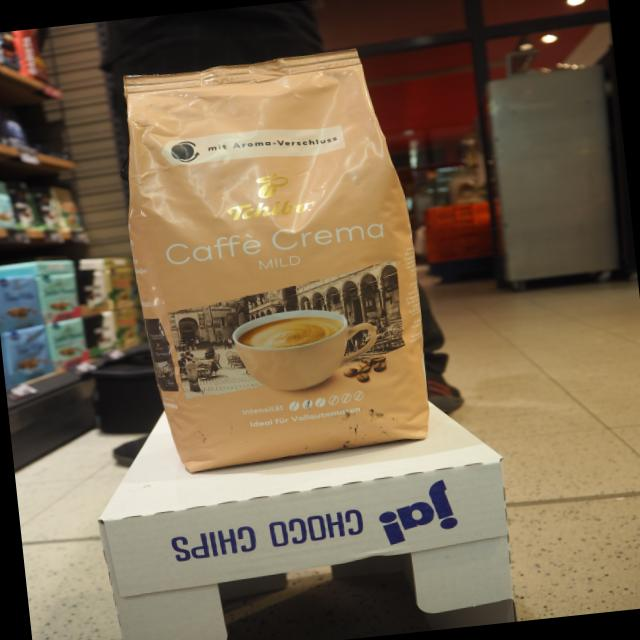CC Mild: (103, 39, 440, 482)
